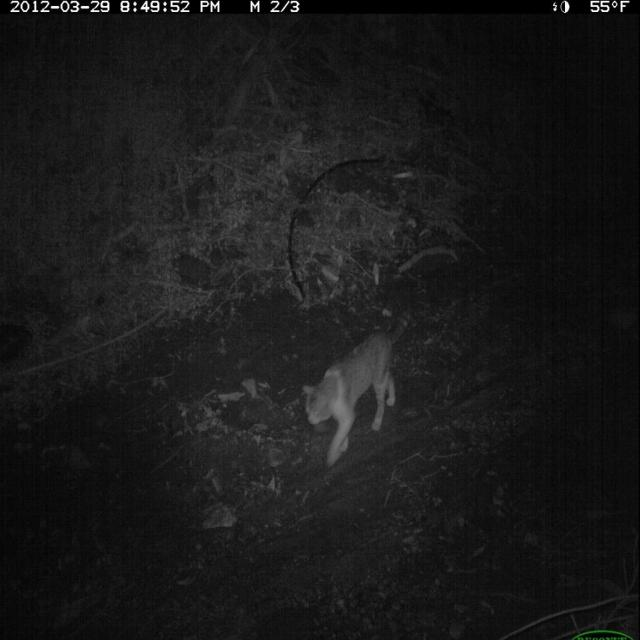cat: (295, 291, 428, 483)
